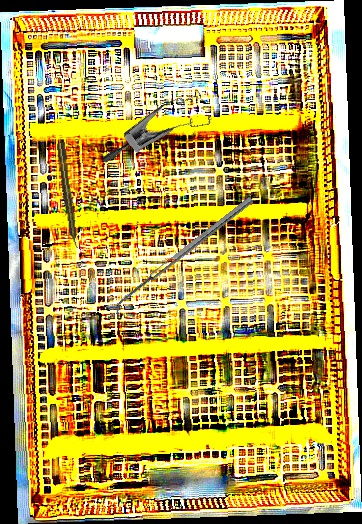Handpiece: (55, 141, 81, 250)
Spatula Surgical: (109, 196, 259, 317)
Speculum: (100, 72, 222, 198)
